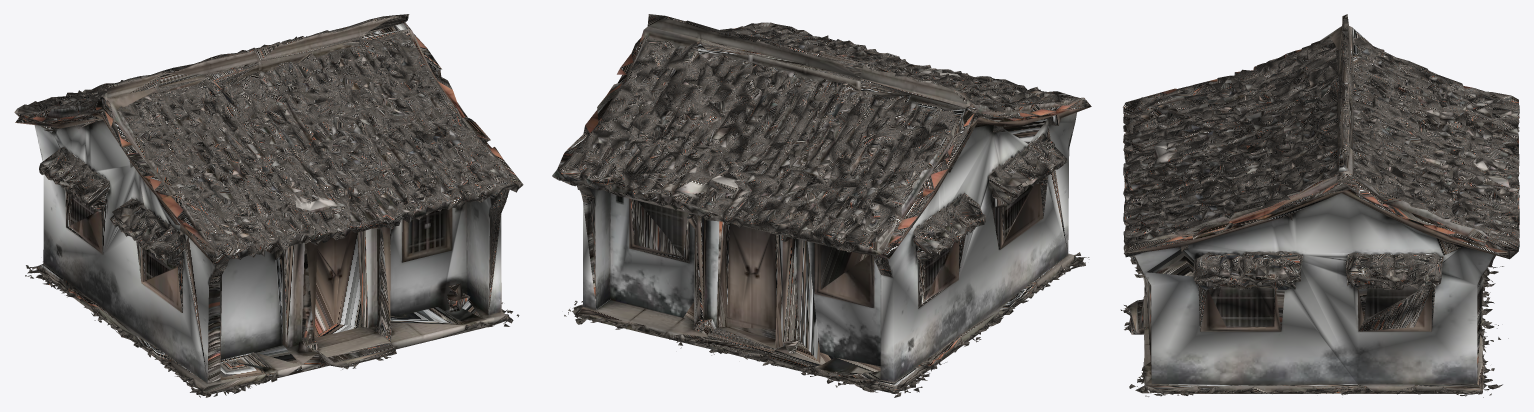
File: bq_house_tiled.mid.glb
The picture shows the model from 3 angles, left to right: view 1: azimuth 30°, elevation 25°; view 2: azimuth 150°, elevation 25°; view 3: azimuth 270°, elevation 25°; orthographic projection. The views are drawn at different scales.
Bounding box in the file's own units: 1.96 × 1.29 × 1.99.
Materials: 1 (1 with a texture image).
